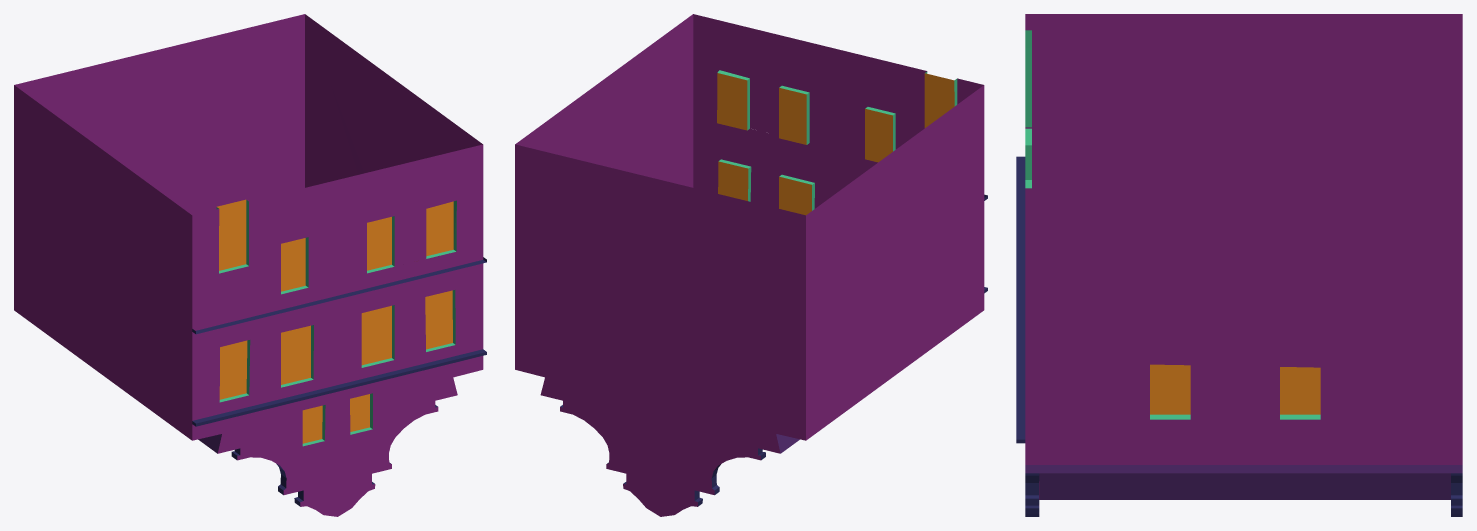
Rendered from Dom Gąski.fbx.
The picture shows the model from 3 angles, left to right: view 1: azimuth 30°, elevation 25°; view 2: azimuth 150°, elevation 25°; view 3: azimuth 270°, elevation 25°; orthographic projection. The views are drawn at different scales.
Parts seen in each view (by area): view 1: dom_gąski_w_radomiu_2; view 2: dom_gąski_w_radomiu_2; view 3: dom_gąski_w_radomiu_2.
Part boxes in pixels (box(x1,y1,x2,y2)): dom_gąski_w_radomiu_2: box(14, 14, 486, 516); dom_gąski_w_radomiu_2: box(515, 14, 987, 516); dom_gąski_w_radomiu_2: box(1016, 14, 1462, 516).
Size of the model in its own units: 334 by 370 by 361.
Materials: 1 (1 with a texture image).
